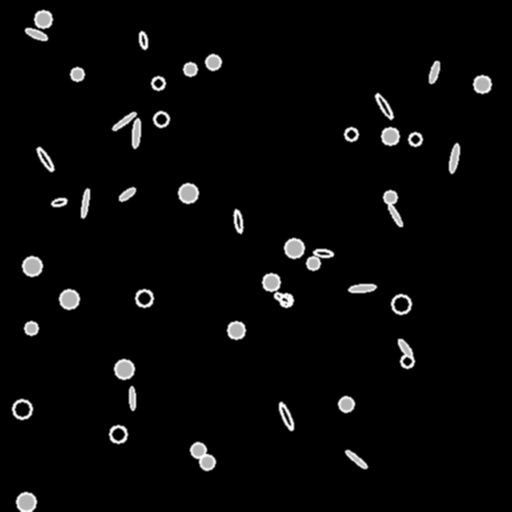pseudomonas: (344, 448, 368, 470), (35, 146, 55, 172), (111, 111, 137, 131), (374, 93, 394, 119), (277, 402, 295, 430), (24, 26, 48, 42), (387, 203, 403, 227), (396, 338, 414, 358), (448, 143, 460, 173), (117, 186, 137, 202), (80, 188, 90, 218), (348, 283, 376, 293), (428, 61, 440, 83), (273, 291, 291, 305), (132, 118, 140, 148), (233, 210, 243, 232), (51, 197, 67, 207), (313, 249, 333, 257), (138, 32, 148, 48), (129, 386, 135, 410)
synechocystis: (285, 239, 303, 257), (179, 184, 197, 202), (13, 400, 31, 418), (23, 257, 41, 275), (60, 290, 78, 308), (115, 360, 133, 378), (392, 295, 410, 313), (17, 493, 35, 511), (35, 11, 51, 27), (474, 76, 490, 92), (110, 426, 126, 442), (263, 274, 279, 290), (136, 290, 152, 306), (382, 128, 398, 144), (228, 322, 244, 338), (339, 397, 353, 411), (200, 455, 214, 469), (206, 55, 220, 69), (154, 112, 168, 126), (191, 443, 205, 457), (25, 322, 37, 334), (345, 128, 357, 140), (401, 355, 413, 367), (184, 63, 196, 75), (71, 68, 83, 80), (307, 257, 319, 269), (280, 294, 292, 306), (384, 191, 396, 203), (409, 133, 421, 145), (152, 77, 164, 89)
